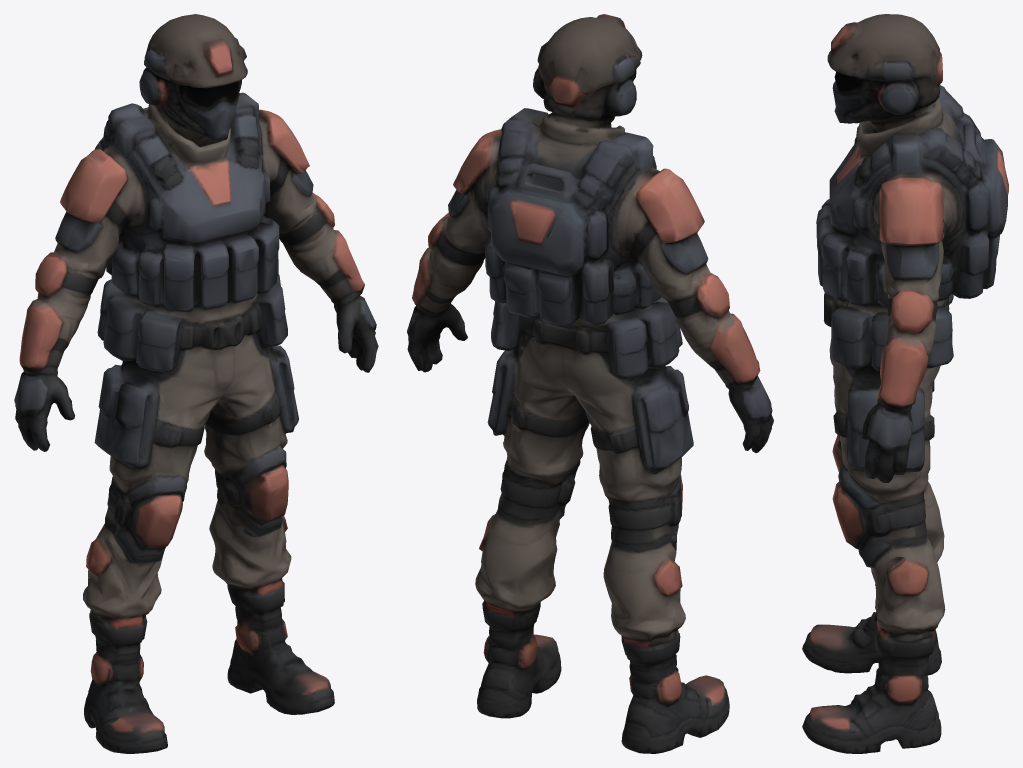
Rendered from red-soldier-lod0.fbx.
3 views of the same model, side by side, from view 1: azimuth 30°, elevation 25°; view 2: azimuth 150°, elevation 25°; view 3: azimuth 270°, elevation 25° (orthographic).
Visible parts, largest first — view 1: RedSoldier_LOD0; view 2: RedSoldier_LOD0; view 3: RedSoldier_LOD0.
Boxes of the visible parts, bbox=[...] form: RedSoldier_LOD0: bbox=[14, 14, 378, 753]; RedSoldier_LOD0: bbox=[407, 14, 773, 753]; RedSoldier_LOD0: bbox=[802, 14, 1008, 753].
Bounding box in the file's own units: 97.42 × 180 × 49.37.
1 material, 1 textured.
